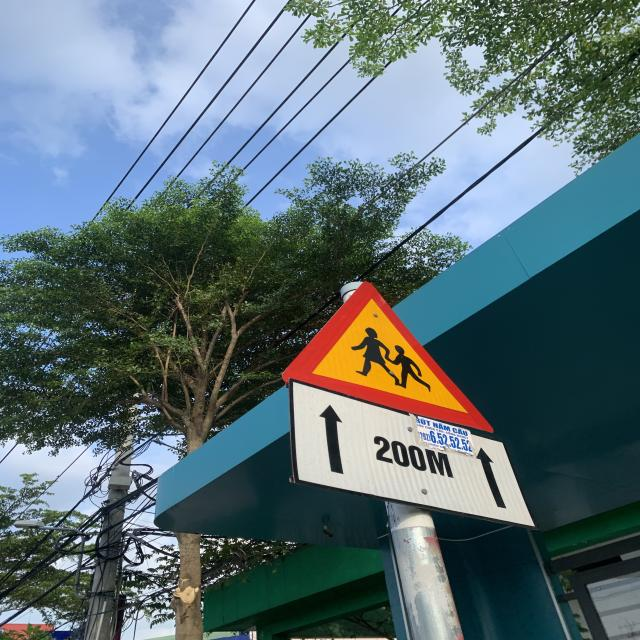Vong_Xuyen: (276, 282, 494, 433)
